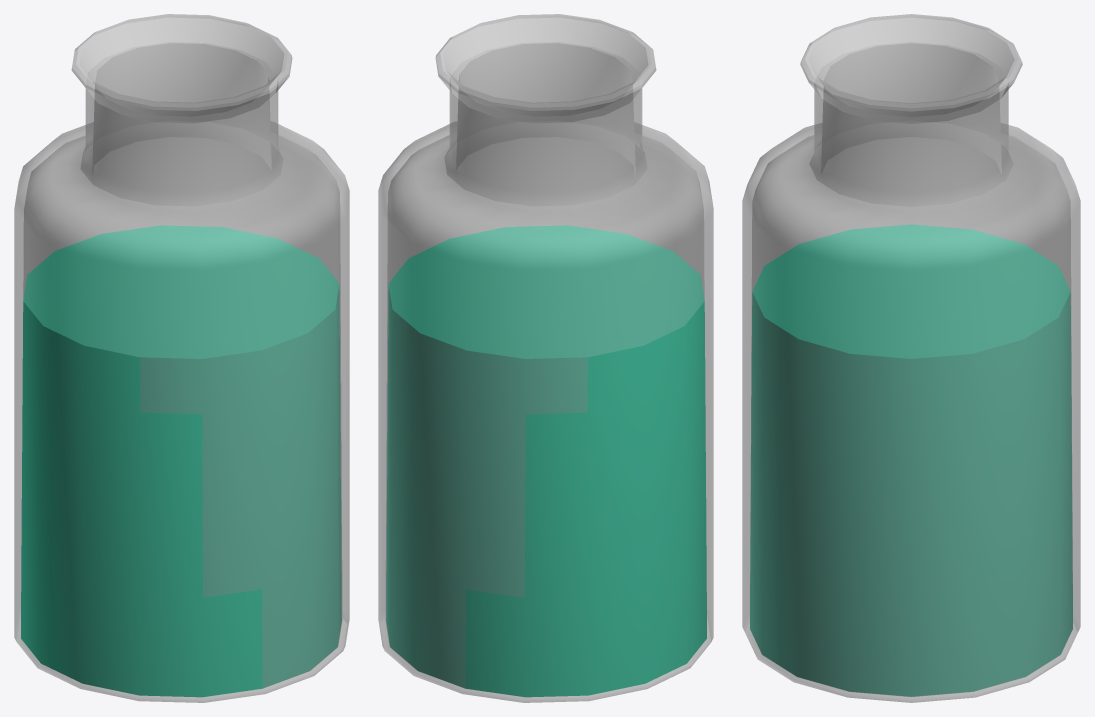
File: Potion_001.fbx
The picture shows the model from 3 angles, left to right: view 1: azimuth 30°, elevation 25°; view 2: azimuth 150°, elevation 25°; view 3: azimuth 270°, elevation 25°; orthographic projection.
Parts seen in each view (by area): view 1: pCylinder226, pCylinder225; view 2: pCylinder226, pCylinder225; view 3: pCylinder226, pCylinder225.
Part boxes in pixels (x1=…): pCylinder226: x1=14, y1=14, x2=349, y2=702; pCylinder225: x1=21, y1=225, x2=341, y2=697; pCylinder226: x1=378, y1=14, x2=713, y2=702; pCylinder225: x1=386, y1=225, x2=706, y2=697; pCylinder226: x1=742, y1=14, x2=1080, y2=702; pCylinder225: x1=750, y1=224, x2=1072, y2=696.
Size of the model in its own units: 0.2323 by 0.4365 by 0.2323.
